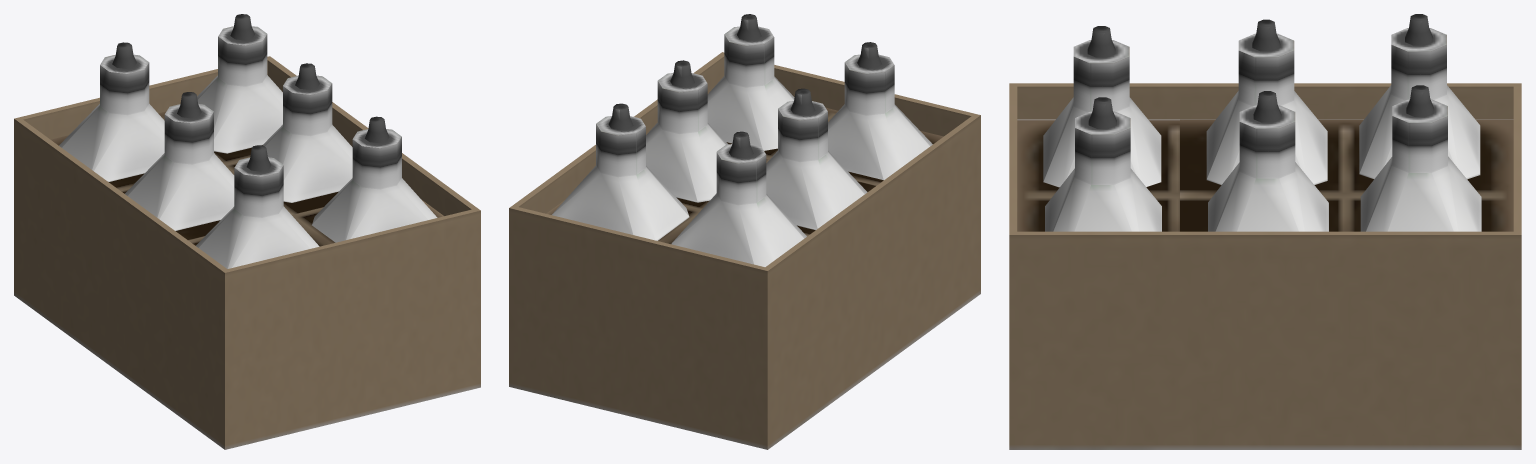
File: BoxofVinegar_ground.fbx
3 renders of one model, left to right at view 1: azimuth 30°, elevation 25°; view 2: azimuth 150°, elevation 25°; view 3: azimuth 270°, elevation 25°, orthographic. The views are drawn at different scales.
Visible parts, largest first — view 1: Vinegar.003; view 2: Vinegar.003; view 3: Vinegar.003.
Boxes of the visible parts, x1,y1,x2,y2 form: Vinegar.003: (14, 14, 480, 449); Vinegar.003: (509, 14, 980, 449); Vinegar.003: (1009, 14, 1521, 449).
Size of the model in its own units: 3.34 by 3.29 by 4.76.
